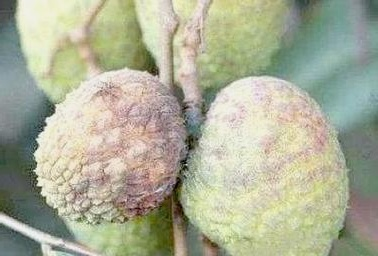Frost_Blight: (214, 86, 325, 189), (84, 94, 189, 196)
